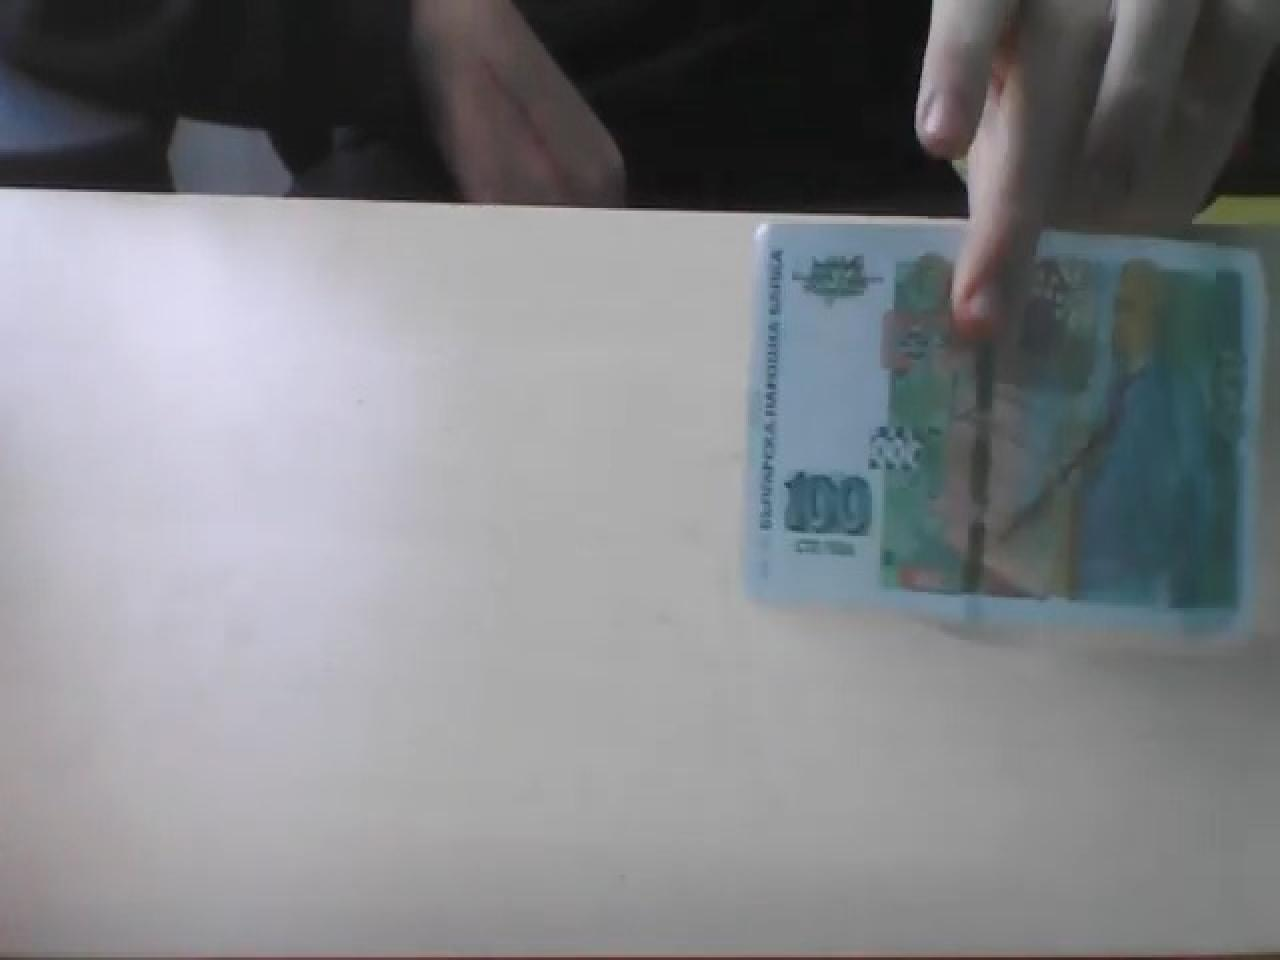100leva: (742, 216, 1266, 642), (780, 467, 872, 538)
